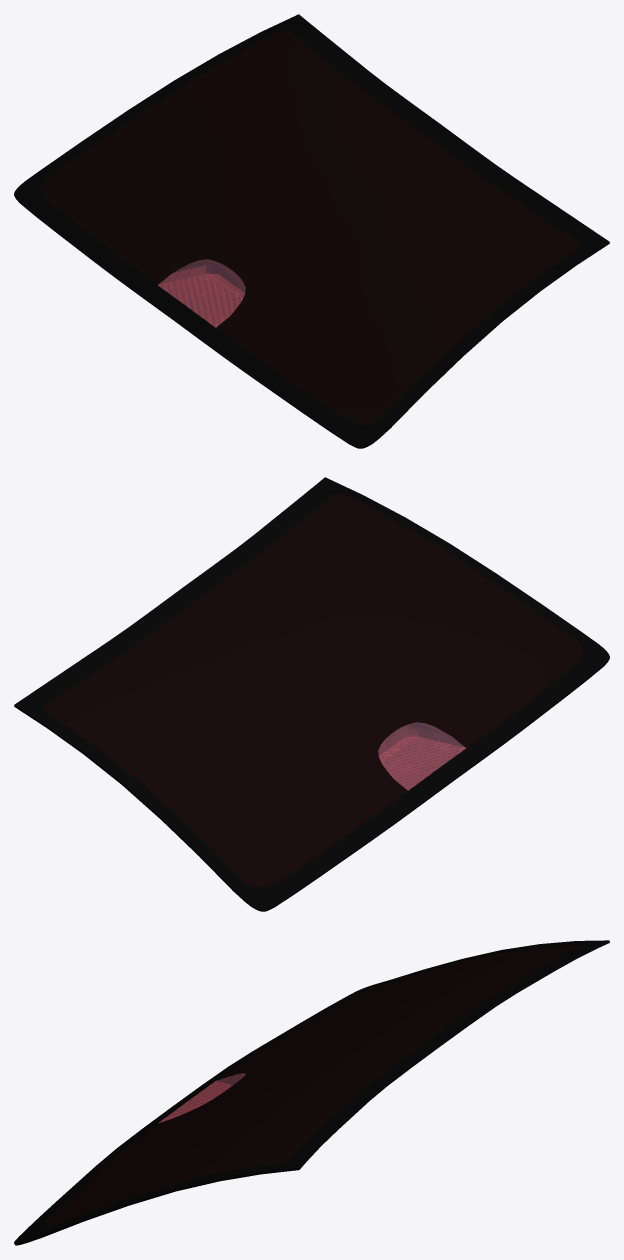
3 views of the same model, one above another, from view 1: azimuth 30°, elevation 25°; view 2: azimuth 150°, elevation 25°; view 3: azimuth 330°, elevation 25° (orthographic).
Visible parts, largest first — view 1: Z177_365C_C_Z177_365C_C_3_DTaSI, Z177_365C_C_Z177_365C_C_4_DTaSI, Z177_365C_C_Z177_365C_C_2_N, Z177_365C_C_1_DTaSI_Z177_365C_C; view 2: Z177_365C_C_Z177_365C_C_3_DTaSI, Z177_365C_C_Z177_365C_C_4_DTaSI, Z177_365C_C_Z177_365C_C_2_N, Z177_365C_C_1_DTaSI_Z177_365C_C; view 3: Z177_365C_C_Z177_365C_C_3_DTaSI, Z177_365C_C_Z177_365C_C_4_DTaSI, Z177_365C_C_Z177_365C_C_2_N, Z177_365C_C_1_DTaSI_Z177_365C_C.
Part boxes in pixels (x1,y1,x2,y2): Z177_365C_C_Z177_365C_C_3_DTaSI: [40, 30, 579, 424]; Z177_365C_C_Z177_365C_C_4_DTaSI: [14, 14, 609, 448]; Z177_365C_C_Z177_365C_C_2_N: [158, 259, 245, 327]; Z177_365C_C_1_DTaSI_Z177_365C_C: [158, 259, 245, 327]; Z177_365C_C_Z177_365C_C_3_DTaSI: [44, 493, 583, 887]; Z177_365C_C_Z177_365C_C_4_DTaSI: [14, 477, 609, 911]; Z177_365C_C_Z177_365C_C_2_N: [378, 722, 465, 790]; Z177_365C_C_1_DTaSI_Z177_365C_C: [378, 722, 465, 790]; Z177_365C_C_Z177_365C_C_3_DTaSI: [41, 945, 579, 1228]; Z177_365C_C_Z177_365C_C_4_DTaSI: [14, 940, 609, 1245]; Z177_365C_C_Z177_365C_C_2_N: [159, 1073, 245, 1122]; Z177_365C_C_1_DTaSI_Z177_365C_C: [159, 1073, 245, 1122].
Size of the model in its own units: 67.73 by 31.42 by 146.
